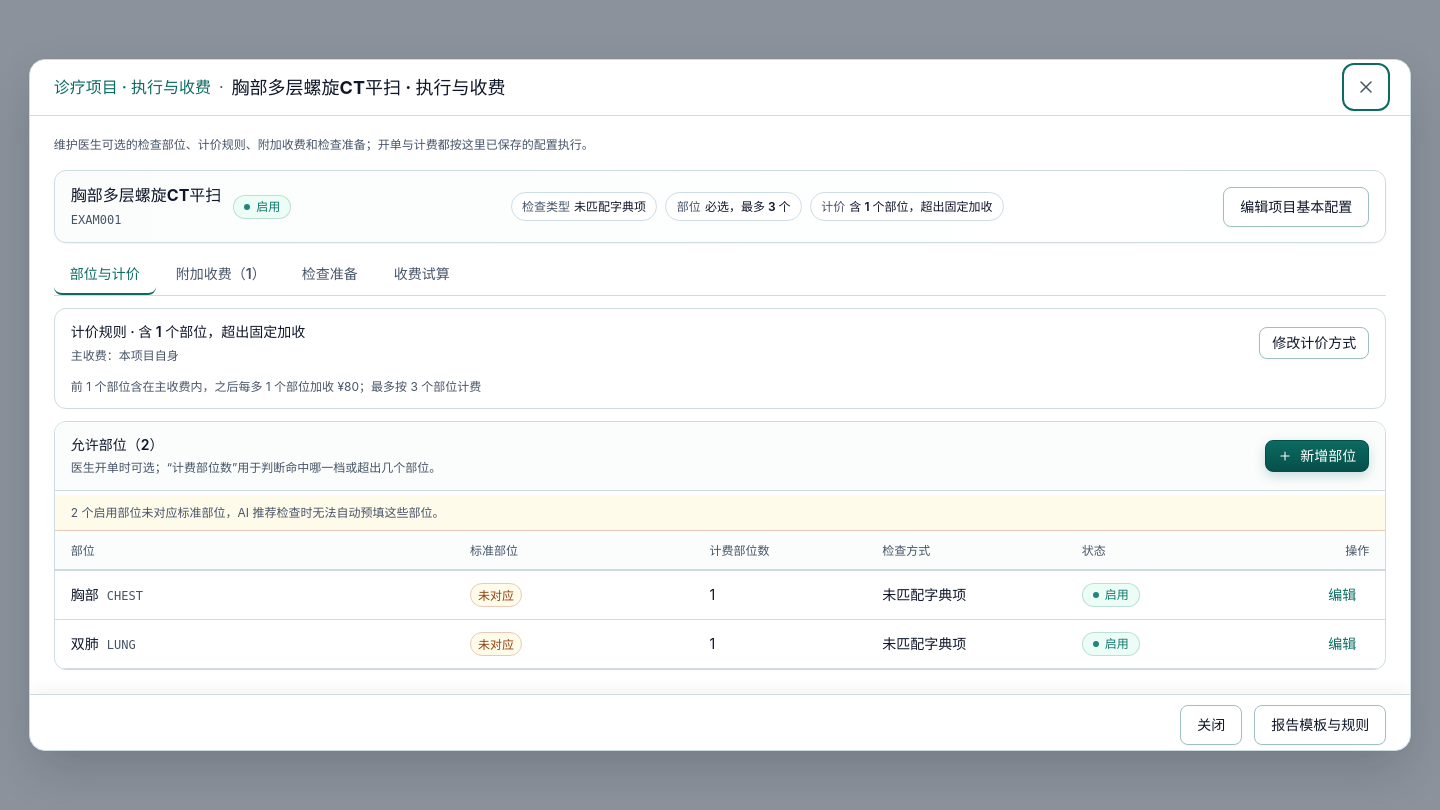
Test: OperationalMasterDataPanel & ClinicalServiceConfigurationDialog › keeps examination preview tied to current inputs across late responses, failures and clearing
Click the button "收费试算". click: (422, 275)
box: [378,255,466,295]
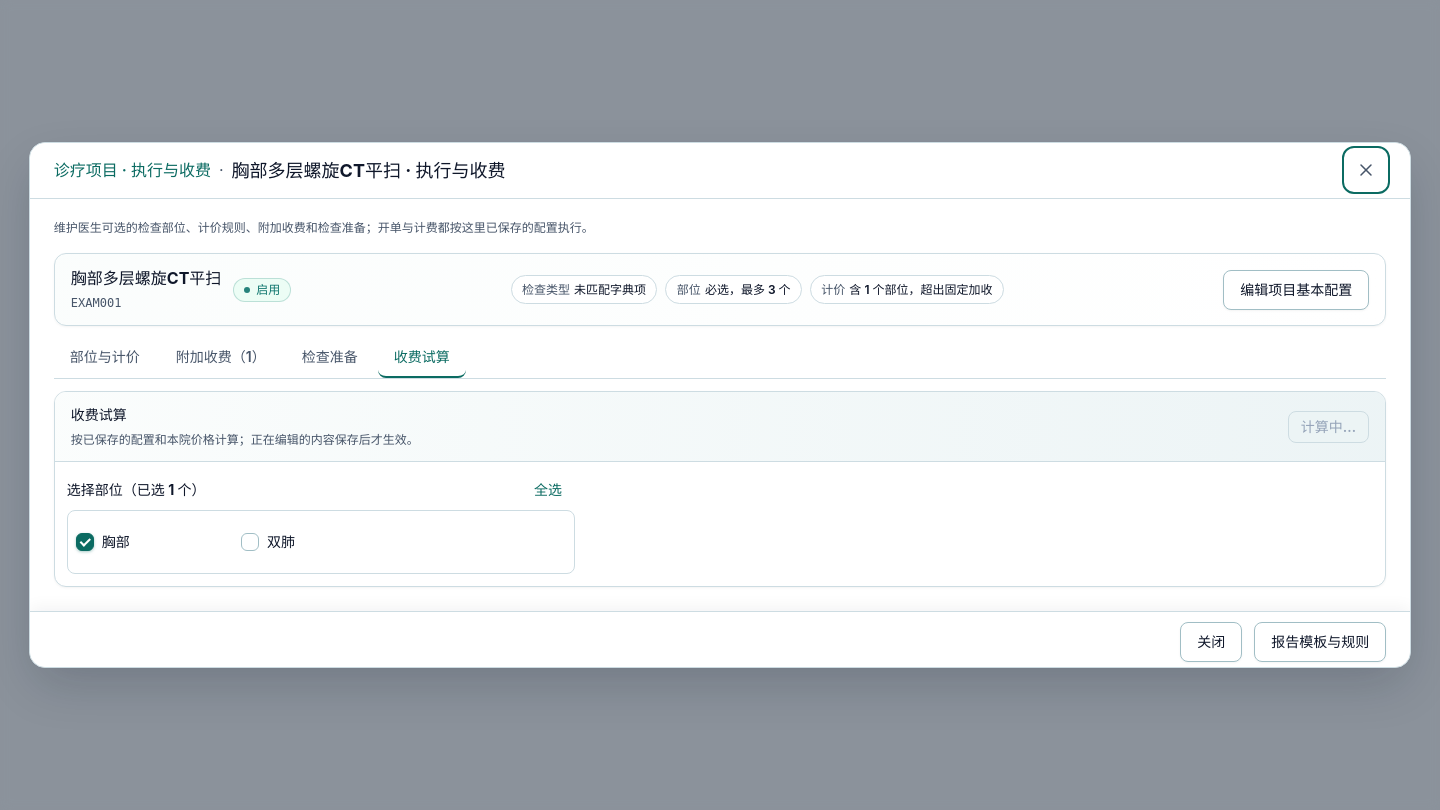
Click the checkbox labelled "双肺". click: (250, 542)
box: [241,534,259,552]
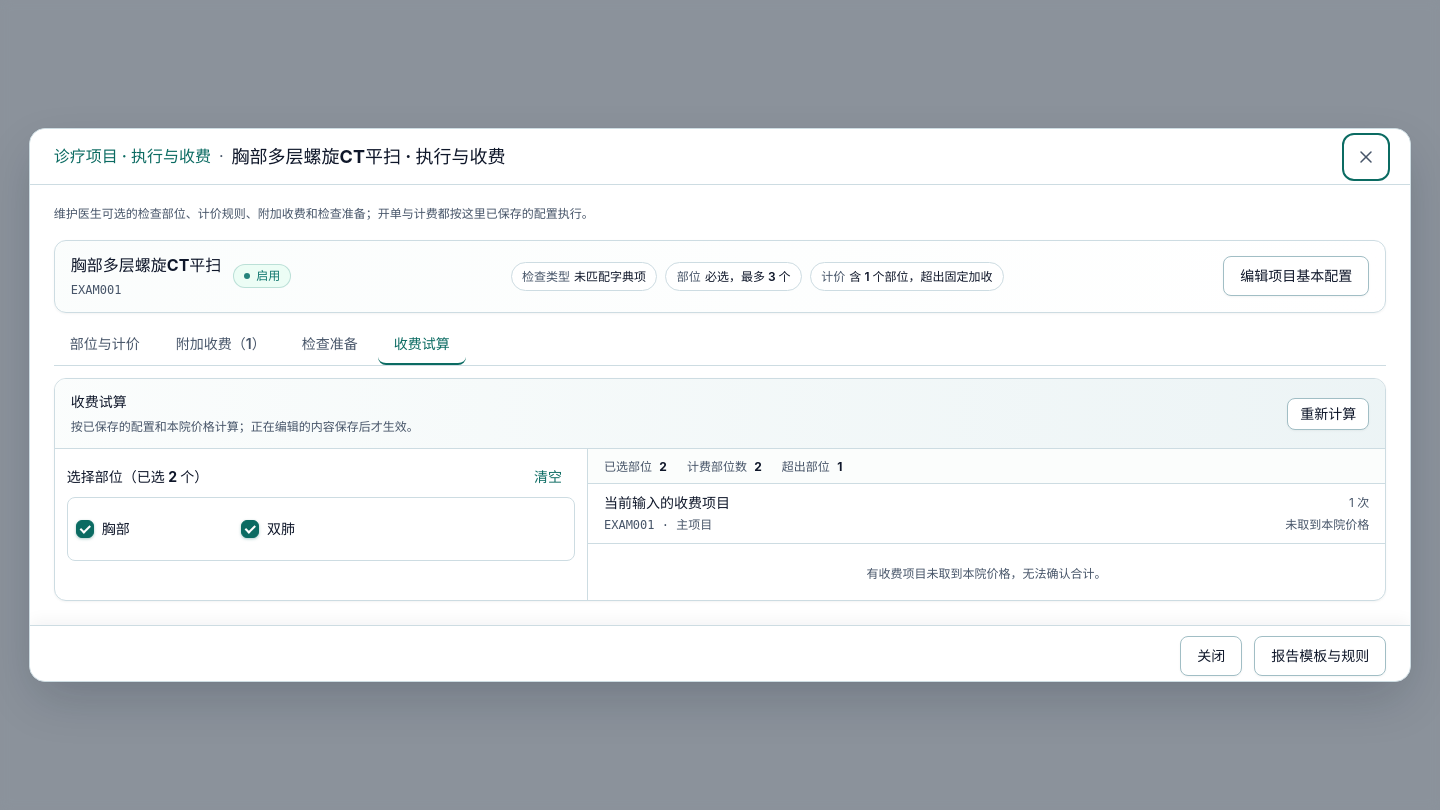
Result: the text "当前输入的收费项目" is shown at [604,492,730,514]
Result: the text "有收费项目未取到本院价格，无法确认合计。" is shown at [867,566,1107,582]
Click the button "重新计算". click: (1328, 414)
box: [1287,398,1369,430]
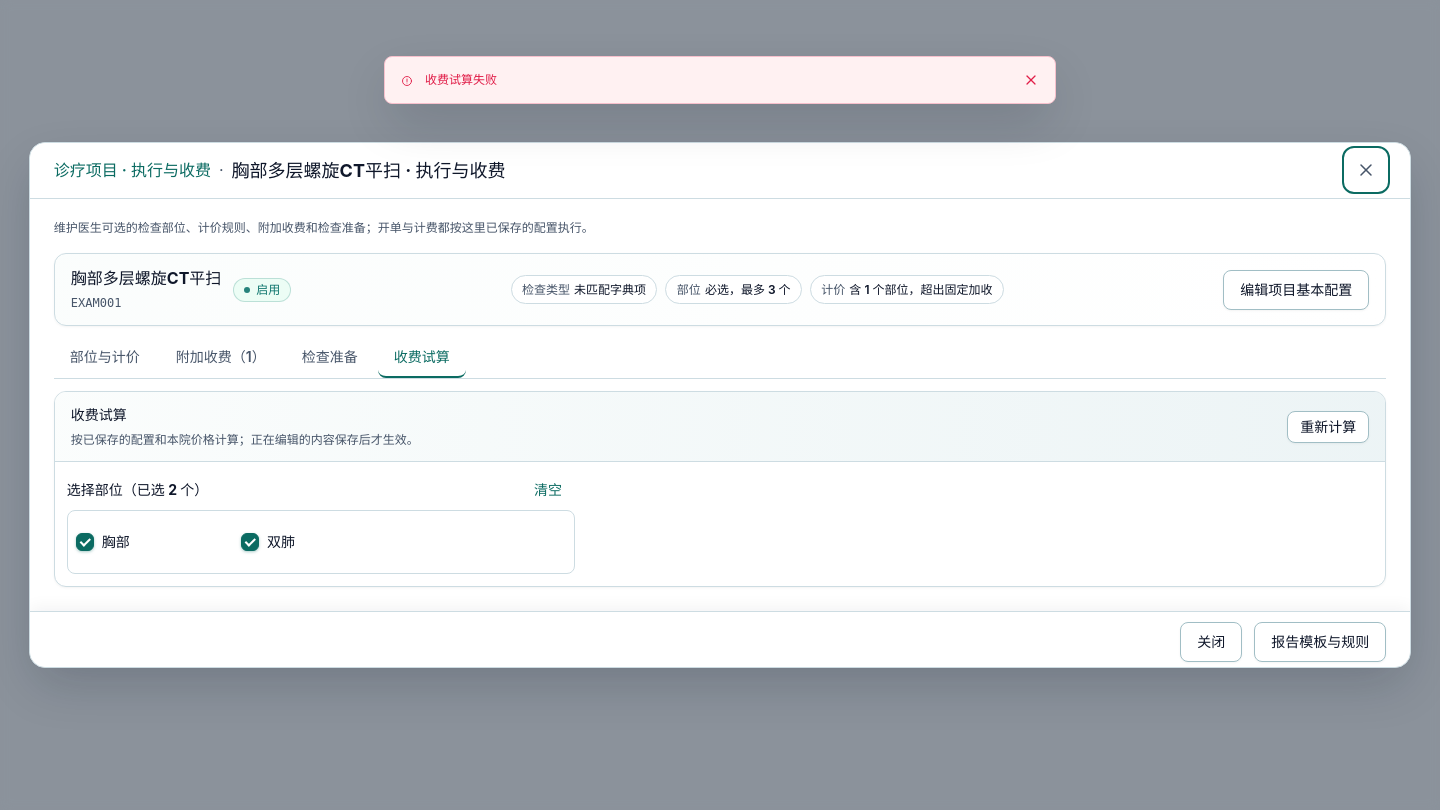
Result: the text "收费试算失败" is shown at [425,72,497,87]
Result: the text "当前输入的收费项目" is gone
Click the button "重新计算". click: (1328, 427)
box: [1287,411,1369,443]
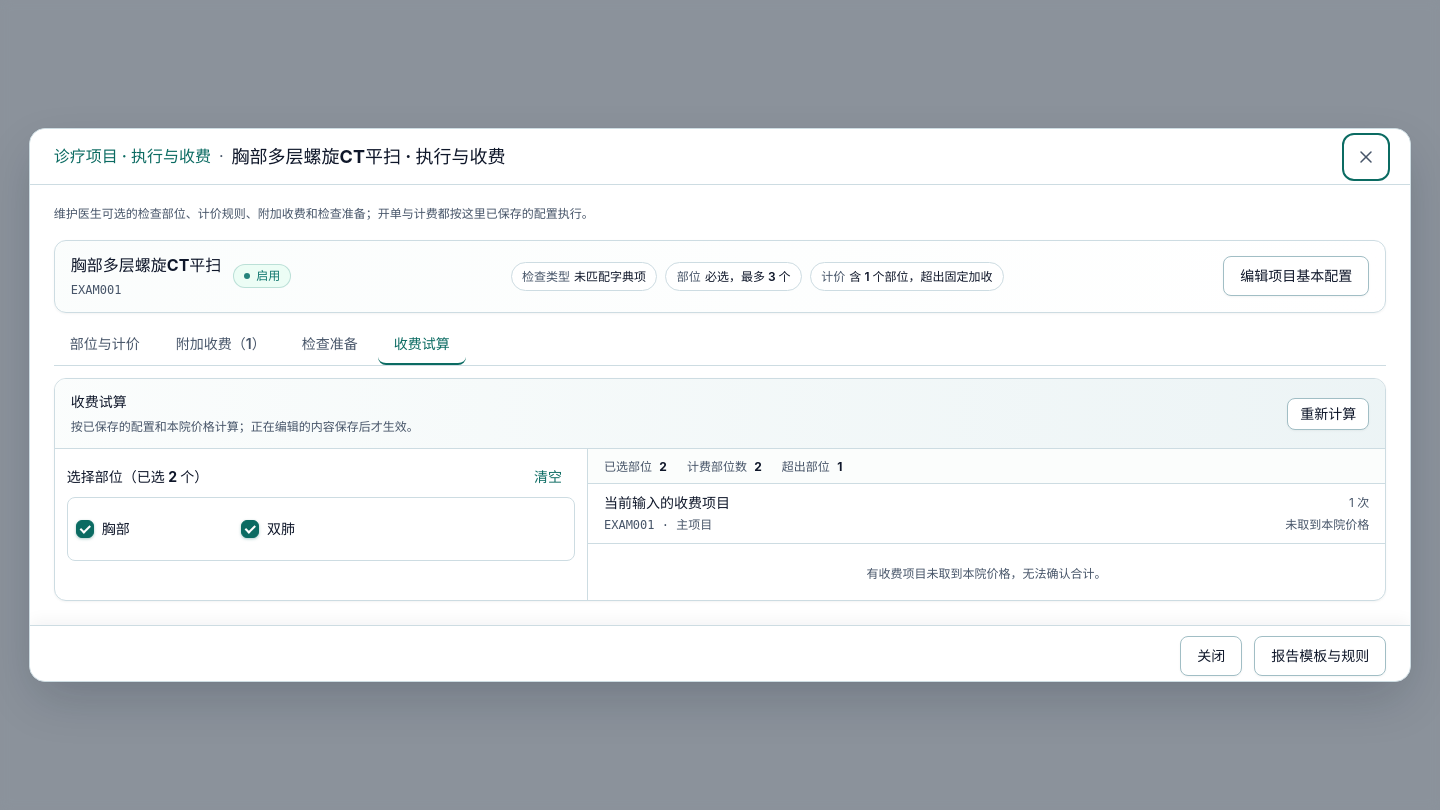
Result: the text "当前输入的收费项目" is shown at [604,492,730,514]
Click the button "清空". click: (548, 477)
box: [521,461,575,493]
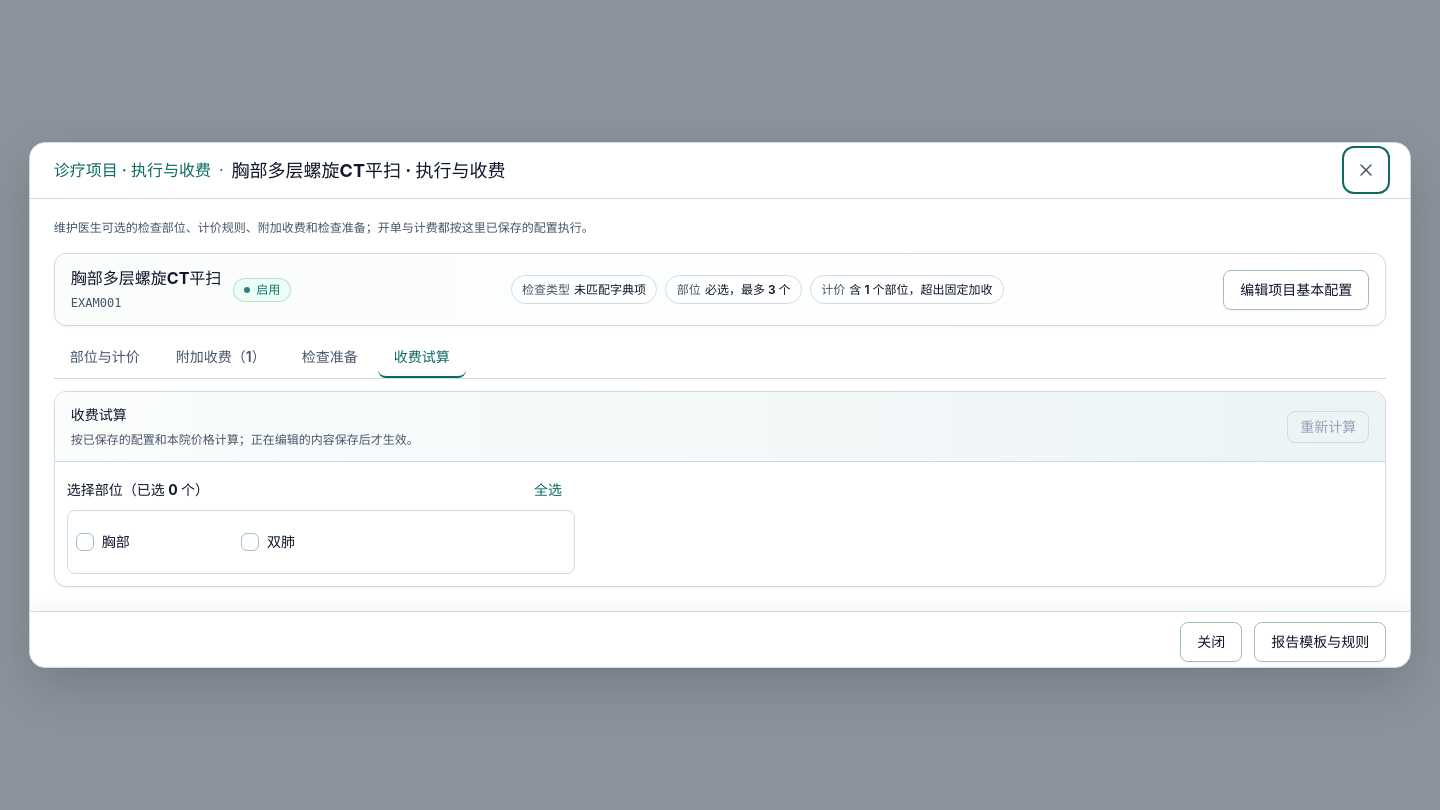
Result: the text "当前输入的收费项目" is gone
Result: the button "重新计算" is disabled at [1287,411,1369,443]
